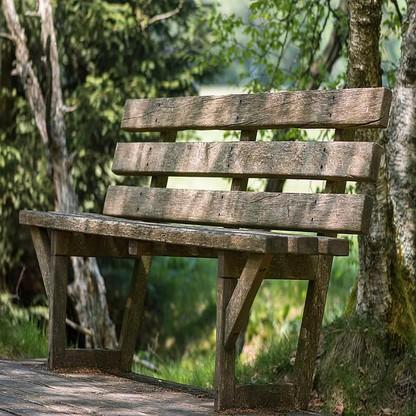obstacle: (24, 50, 394, 400)
